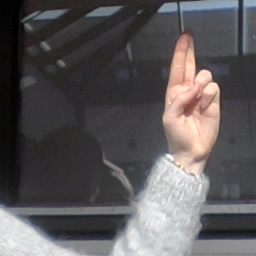R: (159, 28, 222, 155)
